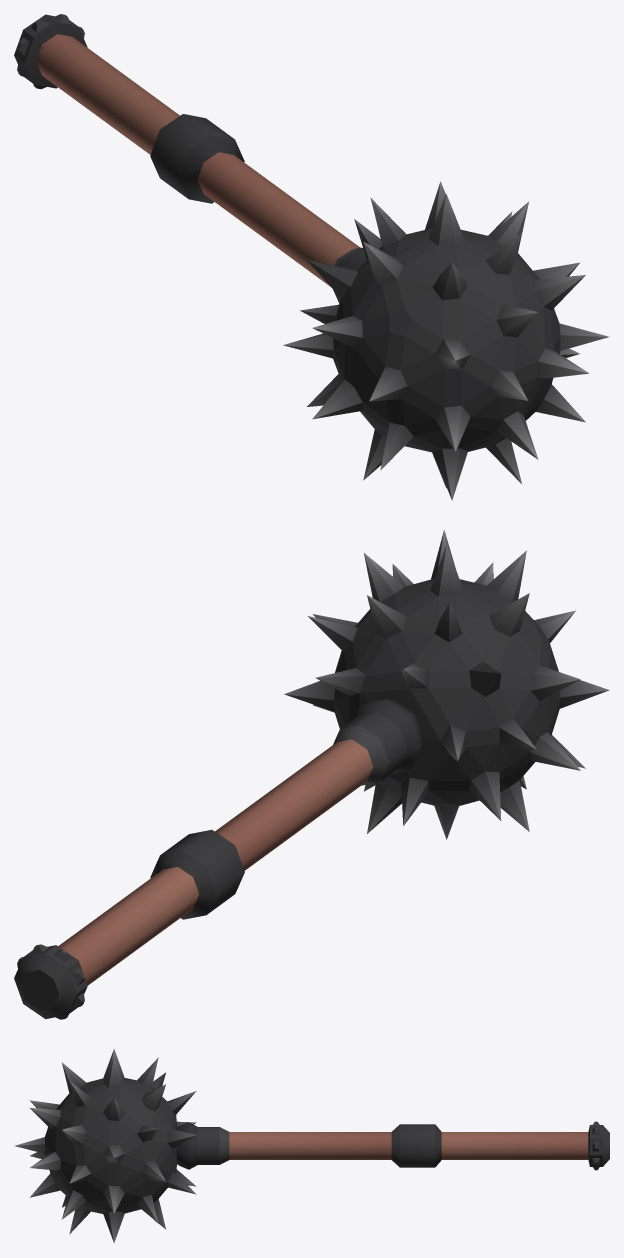
The model's file is hammer1.fbx.
3 renders of one model, top to bottom at view 1: azimuth 30°, elevation 25°; view 2: azimuth 150°, elevation 25°; view 3: azimuth 270°, elevation 25°, orthographic. The views are drawn at different scales.
Visible parts, largest first — view 1: hammer1; view 2: hammer1; view 3: hammer1.
Boxes of the visible parts, left/top/right/bottom form: hammer1: left=14, top=14, right=609, bottom=500; hammer1: left=14, top=530, right=609, bottom=1019; hammer1: left=14, top=1048, right=609, bottom=1243.
Size of the model in its own units: 34.69 by 36.48 by 109.
